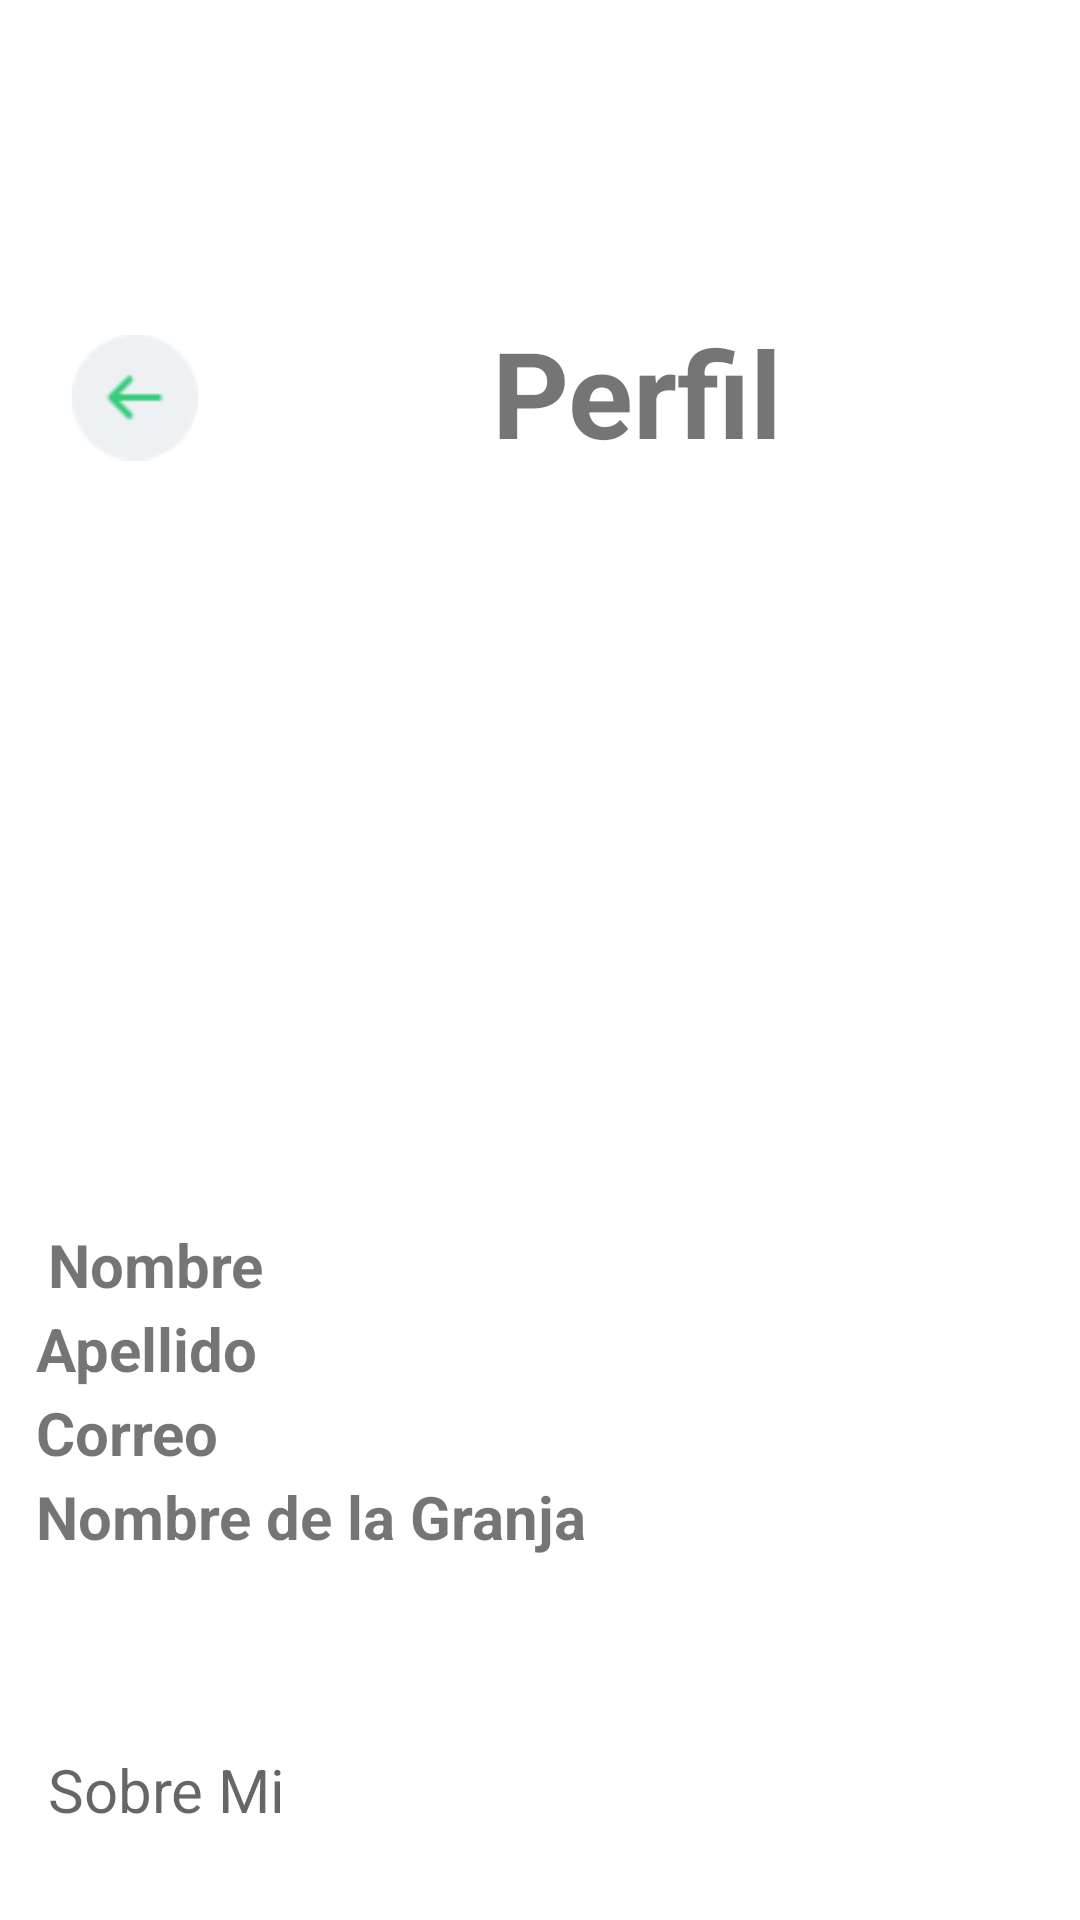

Icon bounding boxes for this 1080px x 1920px phone screenshot, format box=[x1, y1, x2, y2]:
Regresar: box=[72, 335, 198, 461]
